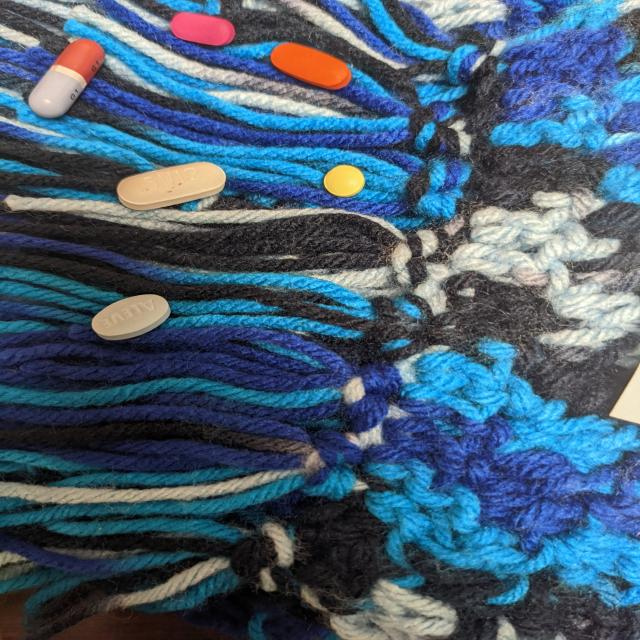non-organic waste: (28, 38, 106, 118), (116, 161, 226, 211), (269, 42, 352, 91), (90, 294, 172, 342), (170, 12, 236, 46), (323, 164, 366, 198)
